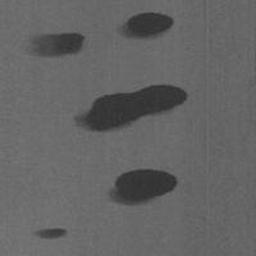Oil spot: (70, 82, 189, 134), (105, 168, 179, 207), (19, 31, 86, 61), (115, 10, 175, 42), (31, 227, 69, 241)
